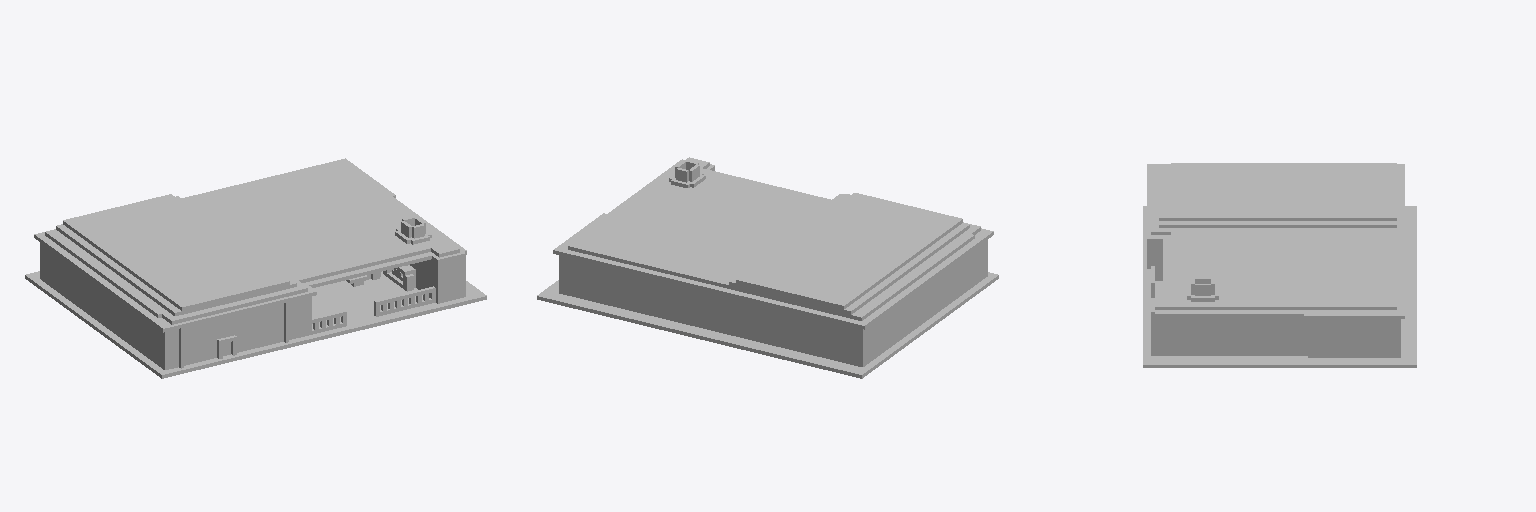
File: T2 Blacksmith.obj
3 renders of one model, left to right at view 1: azimuth 30°, elevation 25°; view 2: azimuth 150°, elevation 25°; view 3: azimuth 270°, elevation 25°, orthographic.
Visible parts, largest first — view 1: object 1; view 2: object 1; view 3: object 1.
Boxes of the visible parts, <box> form: object 1: <box>25,158,486,378</box>; object 1: <box>537,157,998,378</box>; object 1: <box>1143,163,1416,367</box>.
Bounding box in the file's own units: 9.3 × 1.8 × 6.8.